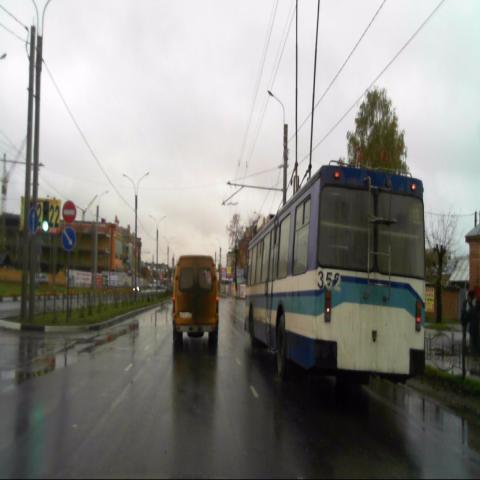3_1: (63, 199, 77, 224)
